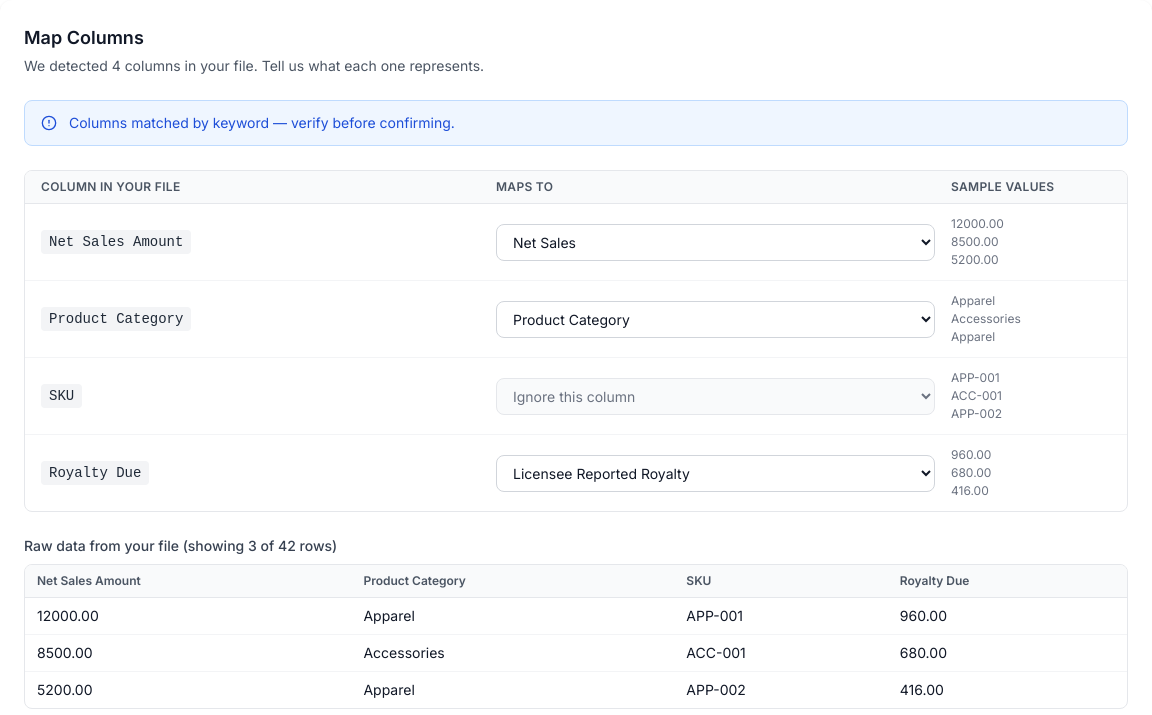
Test: ColumnMapper component › metadata callout appears when at least one column is mapped to metadata
The width and height of the screenshot is (1152, 715).
Expected: the text "columns marked \"keep as additional data\" will be saved" is not shown
// Map SKU to metadata
Select "Keep as additional data" in the dropdown named "Map column \"SKU\" to Likha field" at (716, 396), box [496, 378, 935, 414]
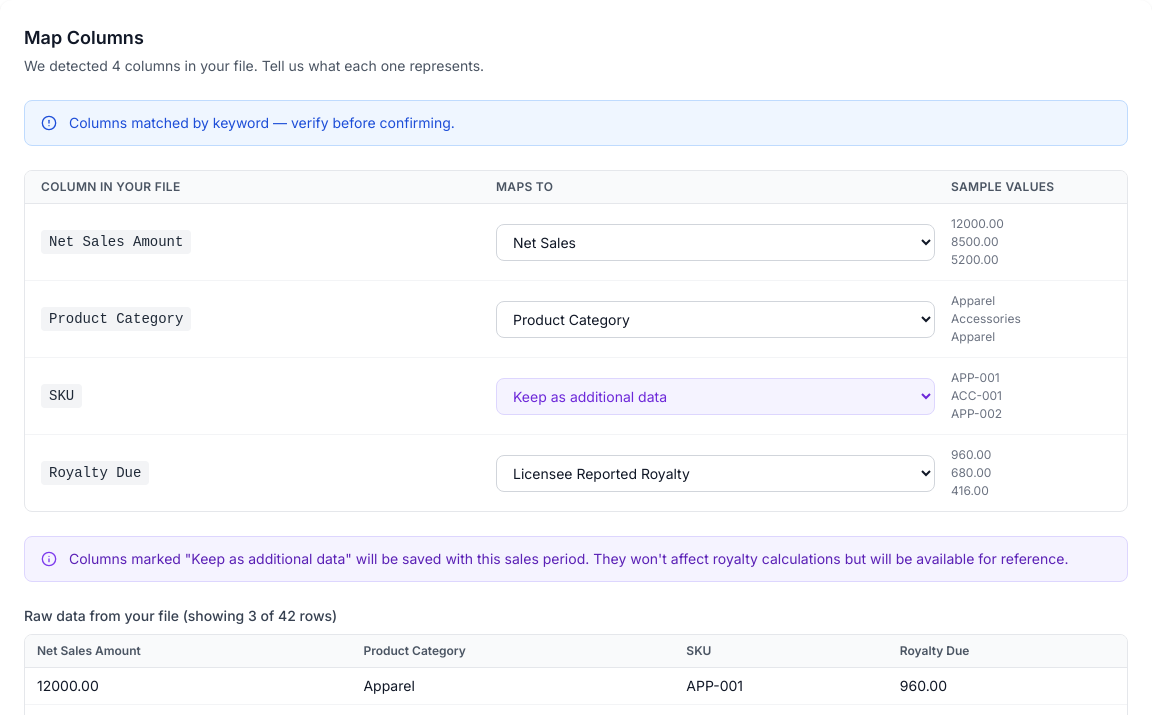
Now the text "Columns marked \"Keep as additional data\" will be saved" is shown, box [69, 550, 1068, 567]
